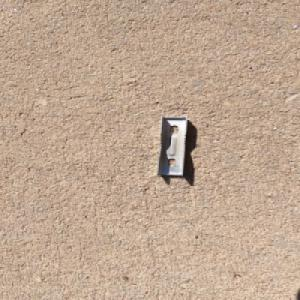ClampPart: (155, 114, 190, 177)
